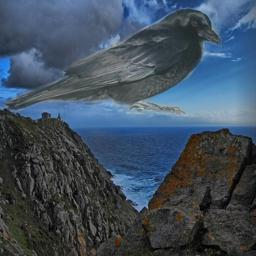Crow: (3, 7, 222, 114)
